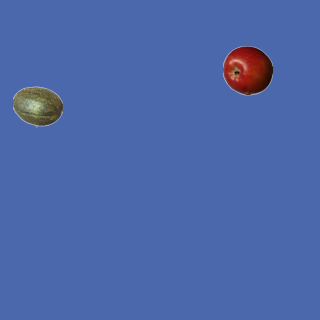Apple Braeburn: (222, 45, 272, 95)
Melon Piel de Sapo: (12, 81, 62, 131)
